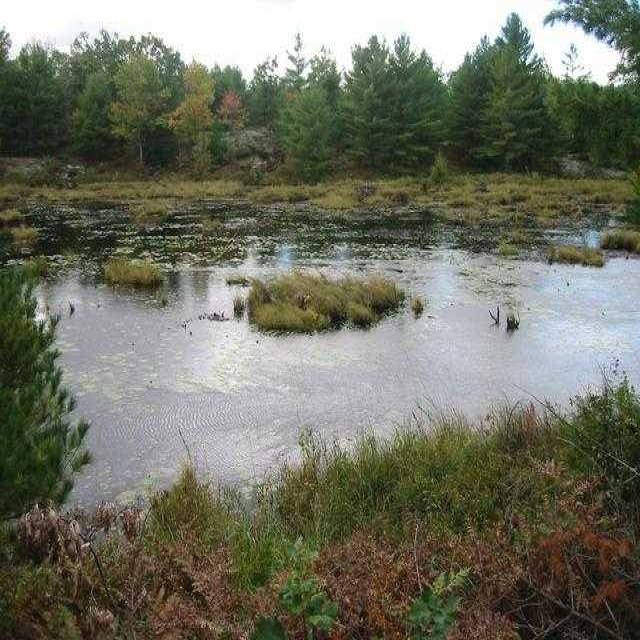Ponds: (8, 204, 636, 506)
